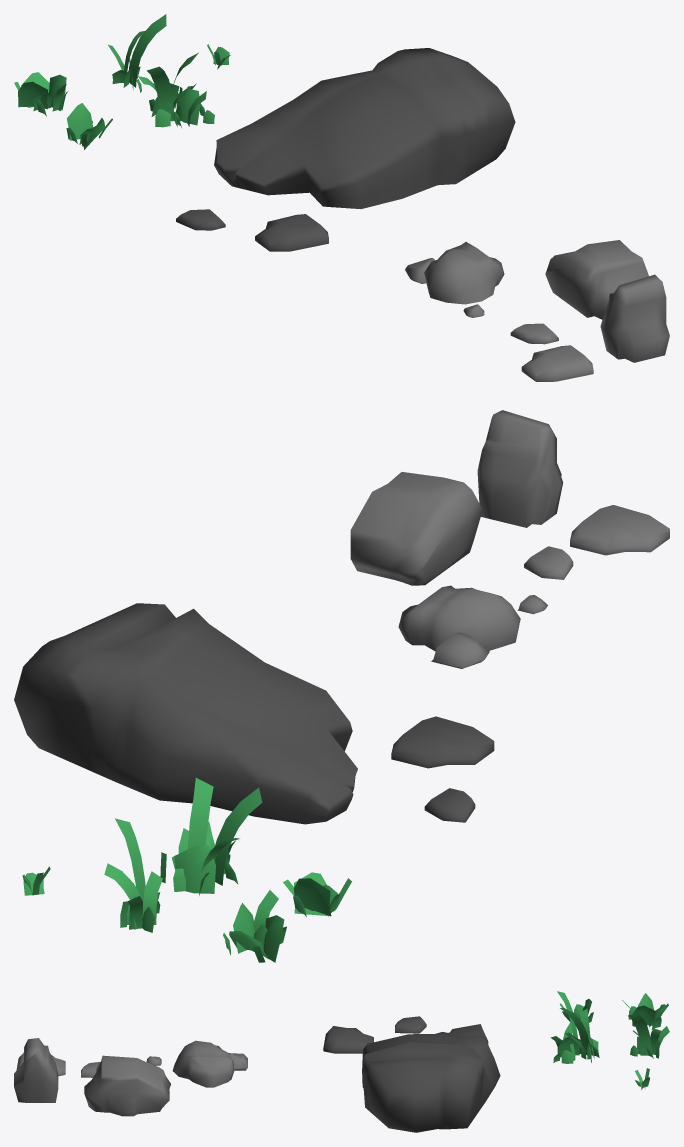
The model's file is Rocks and Grass FBX v1 (Soft Display Test).fbx.
3 renders of one model, top to bottom at view 1: azimuth 30°, elevation 25°; view 2: azimuth 150°, elevation 25°; view 3: azimuth 270°, elevation 25°, orthographic. The views are drawn at different scales.
Parts seen in each view (by area): view 1: polySurface138, polySurface146, polySurface145, polySurface148, polySurface103, polySurface140, polySurface142, polySurface66, polySurface128, polySurface95, polySurface139, polySurface147; view 2: polySurface138, polySurface146, polySurface145, polySurface148, polySurface103, polySurface140, polySurface142, polySurface128, polySurface66, polySurface95, polySurface149, polySurface139 (+1 smaller); view 3: polySurface138, polySurface146, polySurface145, polySurface148, polySurface103, polySurface140, polySurface128, polySurface66, polySurface139, polySurface95, polySurface149, polySurface142.
Boxes of the visible parts, x1,y1,x2,y2 form: polySurface138: (214, 48, 515, 208); polySurface146: (545, 240, 648, 319); polySurface145: (600, 274, 669, 362); polySurface148: (424, 242, 504, 304); polySurface103: (137, 52, 214, 127); polySurface140: (255, 214, 328, 251); polySurface142: (521, 345, 593, 381); polySurface66: (14, 72, 67, 116); polySurface128: (108, 14, 166, 92); polySurface95: (66, 103, 112, 149); polySurface139: (176, 209, 225, 230); polySurface147: (510, 323, 558, 344); polySurface138: (14, 603, 357, 824); polySurface146: (350, 472, 482, 585); polySurface145: (477, 410, 563, 527); polySurface148: (398, 585, 520, 651); polySurface103: (160, 778, 262, 895); polySurface140: (391, 716, 494, 768); polySurface142: (570, 505, 669, 555); polySurface128: (104, 818, 162, 932); polySurface66: (223, 890, 286, 962); polySurface95: (283, 872, 351, 916); polySurface149: (431, 632, 489, 668); polySurface139: (424, 788, 475, 822); polySurface138: (362, 1024, 500, 1132); polySurface146: (84, 1055, 170, 1116); polySurface145: (14, 1038, 58, 1102); polySurface148: (172, 1040, 234, 1087); polySurface103: (550, 991, 599, 1063); polySurface140: (323, 1026, 373, 1053); polySurface128: (628, 1013, 669, 1058); polySurface66: (622, 993, 668, 1029); polySurface139: (395, 1016, 426, 1033); polySurface95: (559, 999, 593, 1022); polySurface149: (228, 1053, 247, 1070); polySurface142: (16, 1052, 65, 1076).
Size of the model in its own units: 5.29 by 1.31 by 11.66.
